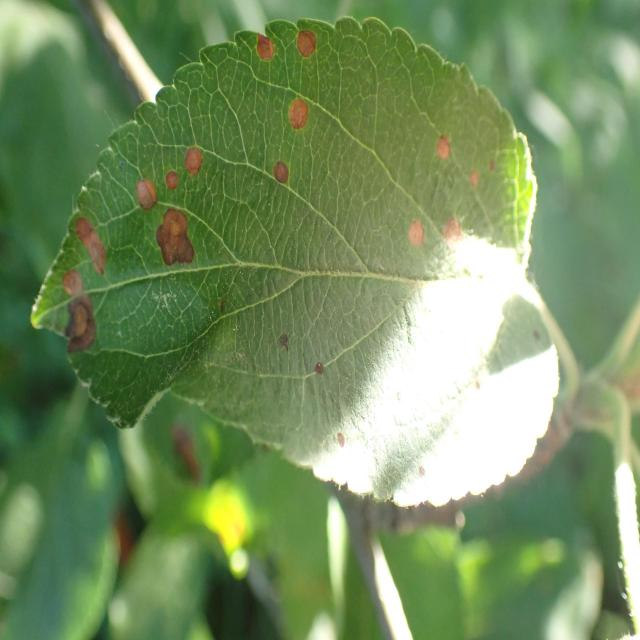frog-eye-leaf-spot: (28, 12, 561, 507)
